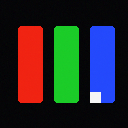1 square: (90, 92, 100, 102)
